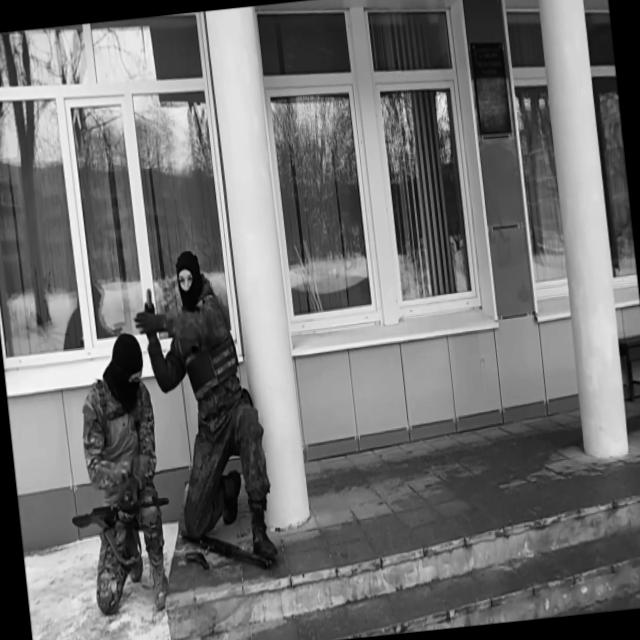gun: (178, 511, 276, 579), (69, 490, 172, 539), (184, 546, 211, 576)
person with a gun: (128, 242, 280, 578), (52, 326, 181, 620)
